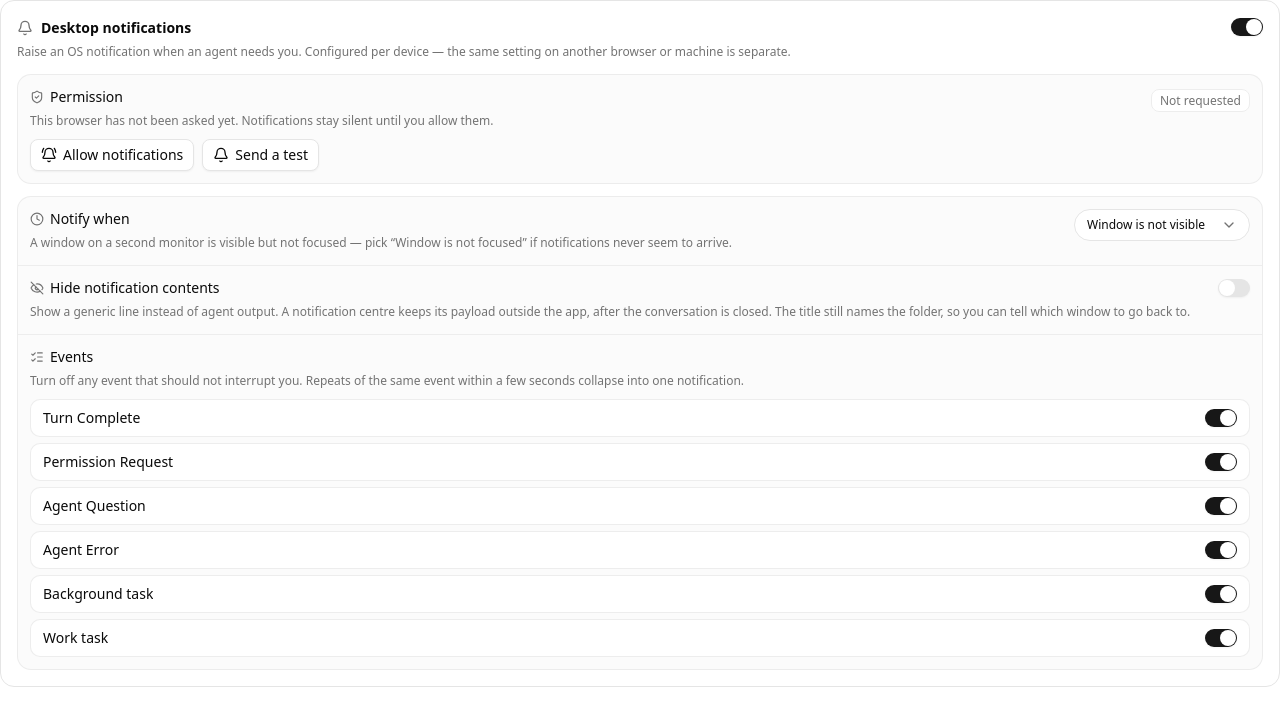
the permission card › offers the request button only while the browser is undecided
Check: the text "Not requested" is shown, box [1151, 89, 1250, 112]
Click the button "Allow notifications" at point(112, 155), box [30, 139, 194, 171]
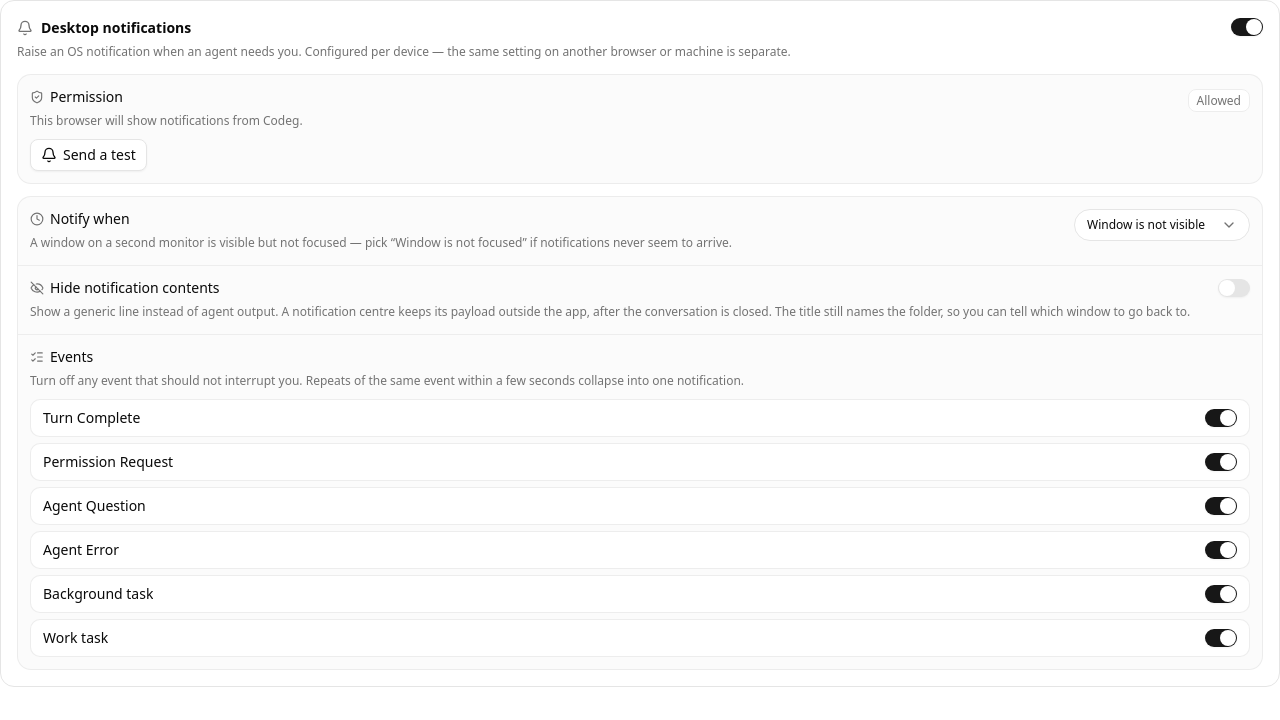
Check: the text "Allowed" is shown, box [1188, 89, 1250, 112]
Check: the button "Allow notifications" is gone
